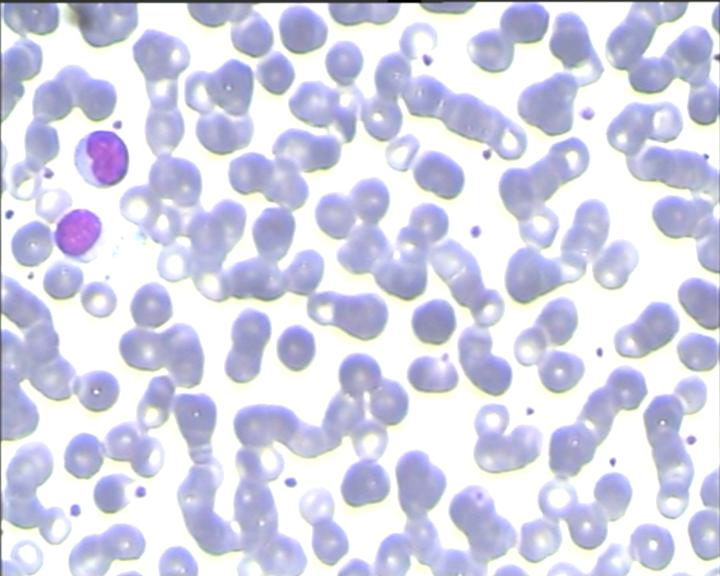lymp: (68, 128, 136, 188), (52, 203, 116, 262)
